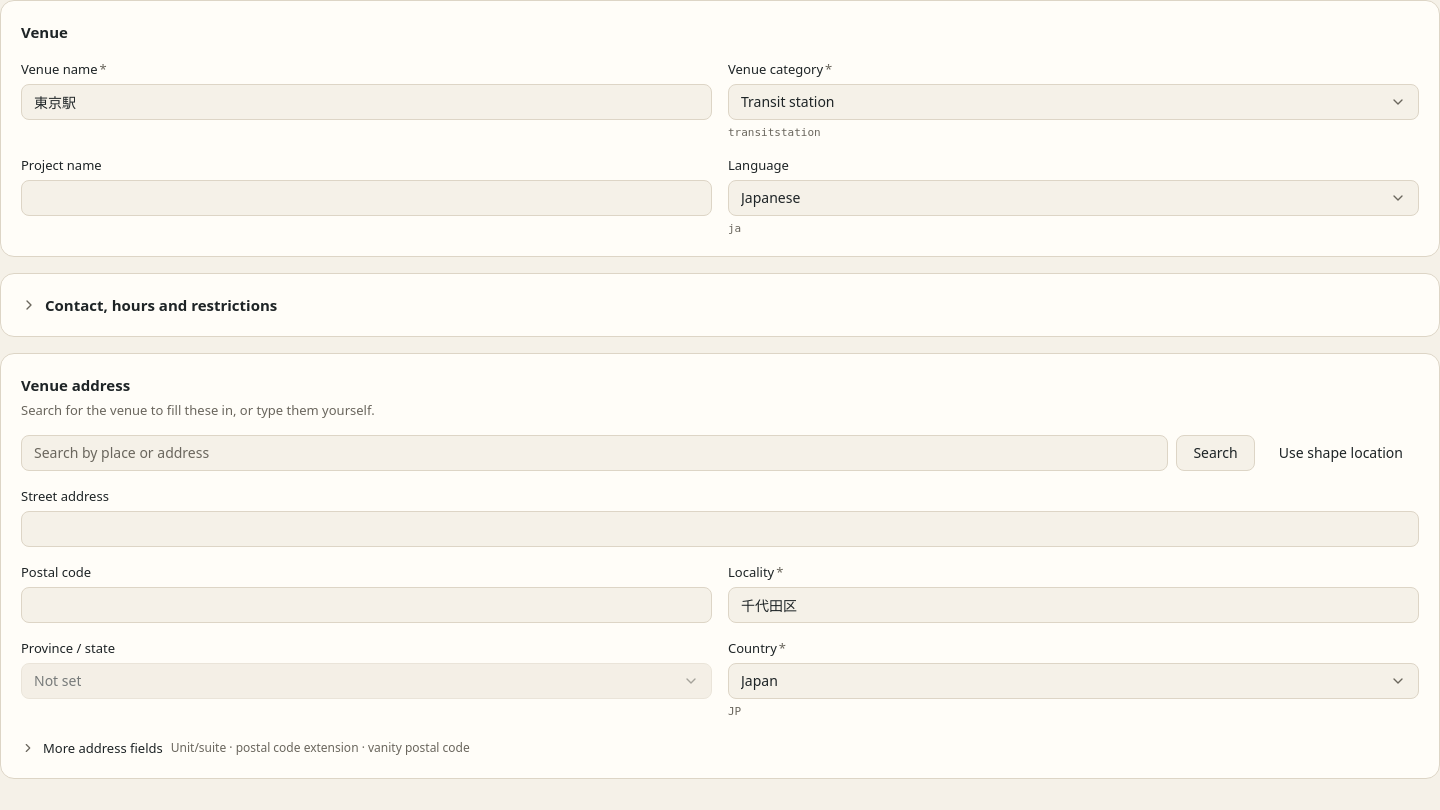
Scenario: a stored country with stray case or spaces shows as its country, once, without being rewritten
This screenshot has width=1440, height=810.
Click the dropdown named "Country" at (759, 680), box [728,662,1419,698]
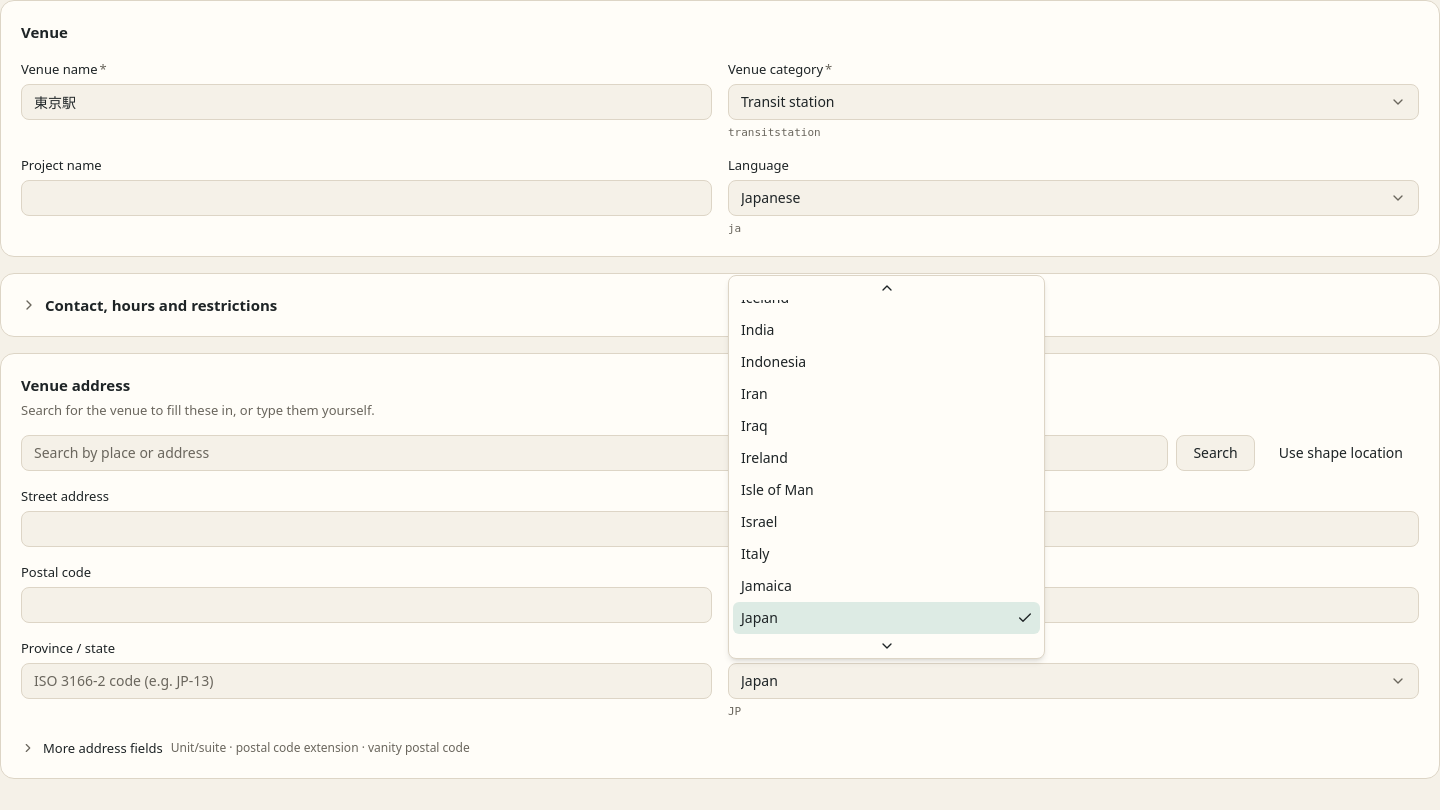
Now the number of options "Japan" is 1, box [733,602,1040,634]
